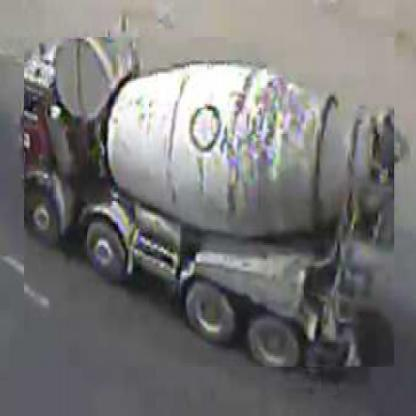truck: (25, 38, 396, 369)
